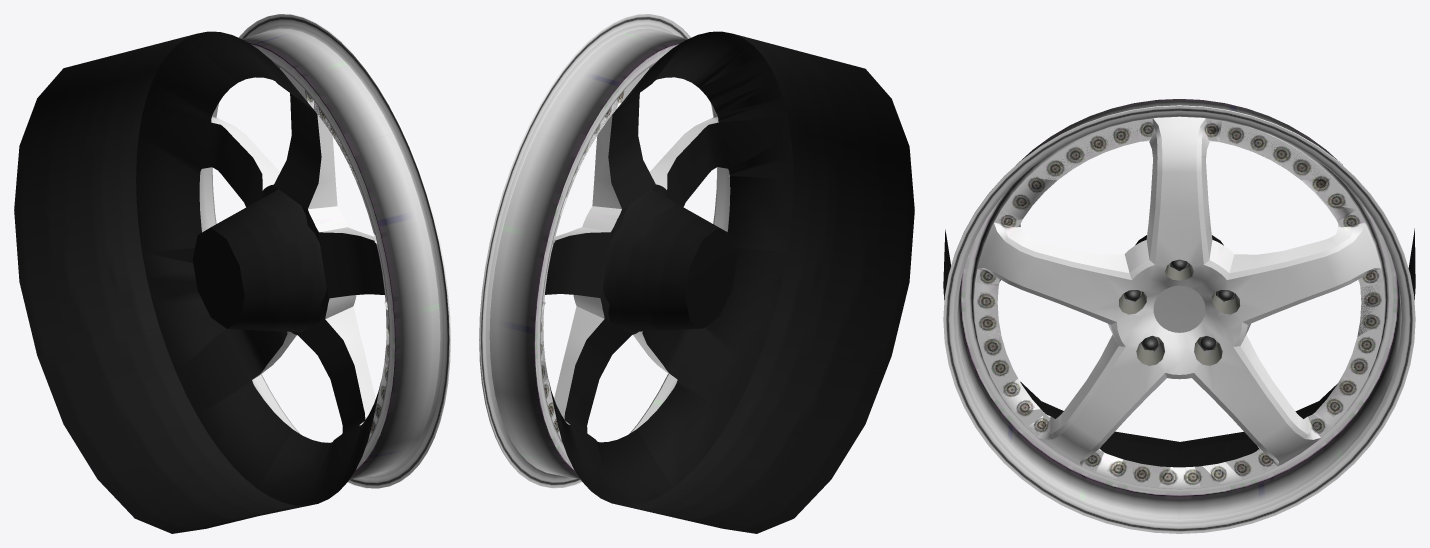
Rendered from wheel54.fbx.
3 views of the same model, side by side, from view 1: azimuth 30°, elevation 25°; view 2: azimuth 150°, elevation 25°; view 3: azimuth 270°, elevation 25° (orthographic). The views are drawn at different scales.
Visible parts, largest first — view 1: ham_pg3_wheel_wheel_inner_rim_, ham_pg3_wheel_wheel_rim_, wheel_rim; view 2: ham_pg3_wheel_wheel_inner_rim_, wheel_rim, ham_pg3_wheel_wheel_rim_; view 3: ham_pg3_wheel_wheel_rim_, wheel_rim, ham_pg3_wheel_wheel_inner_rim_.
Part boxes in pixels (x1=…): ham_pg3_wheel_wheel_inner_rim_: x1=14, y1=31, x2=384, y2=533; ham_pg3_wheel_wheel_rim_: x1=199, y1=14, x2=450, y2=488; wheel_rim: x1=200, y1=14, x2=450, y2=488; ham_pg3_wheel_wheel_inner_rim_: x1=545, y1=31, x2=914, y2=533; wheel_rim: x1=479, y1=14, x2=730, y2=488; ham_pg3_wheel_wheel_rim_: x1=480, y1=14, x2=718, y2=488; ham_pg3_wheel_wheel_rim_: x1=943, y1=106, x2=1414, y2=533; wheel_rim: x1=943, y1=99, x2=1415, y2=533; ham_pg3_wheel_wheel_inner_rim_: x1=943, y1=228, x2=1415, y2=467.
Size of the model in its own units: 0.2261 by 0.4898 by 0.4896.
1 material, 1 textured.
